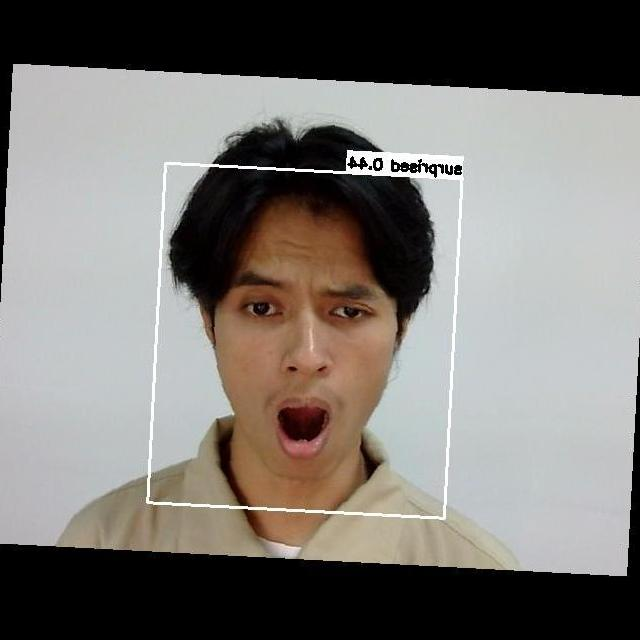Surprised: (213, 248, 415, 462)
